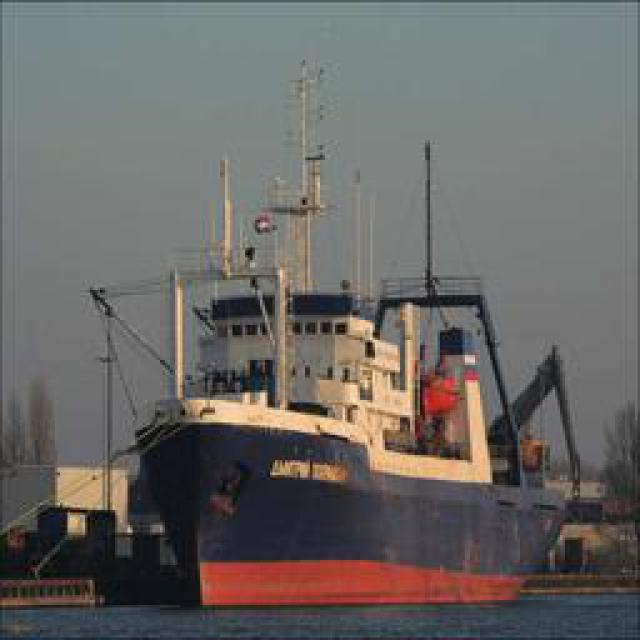Ship: (61, 262, 594, 612)
